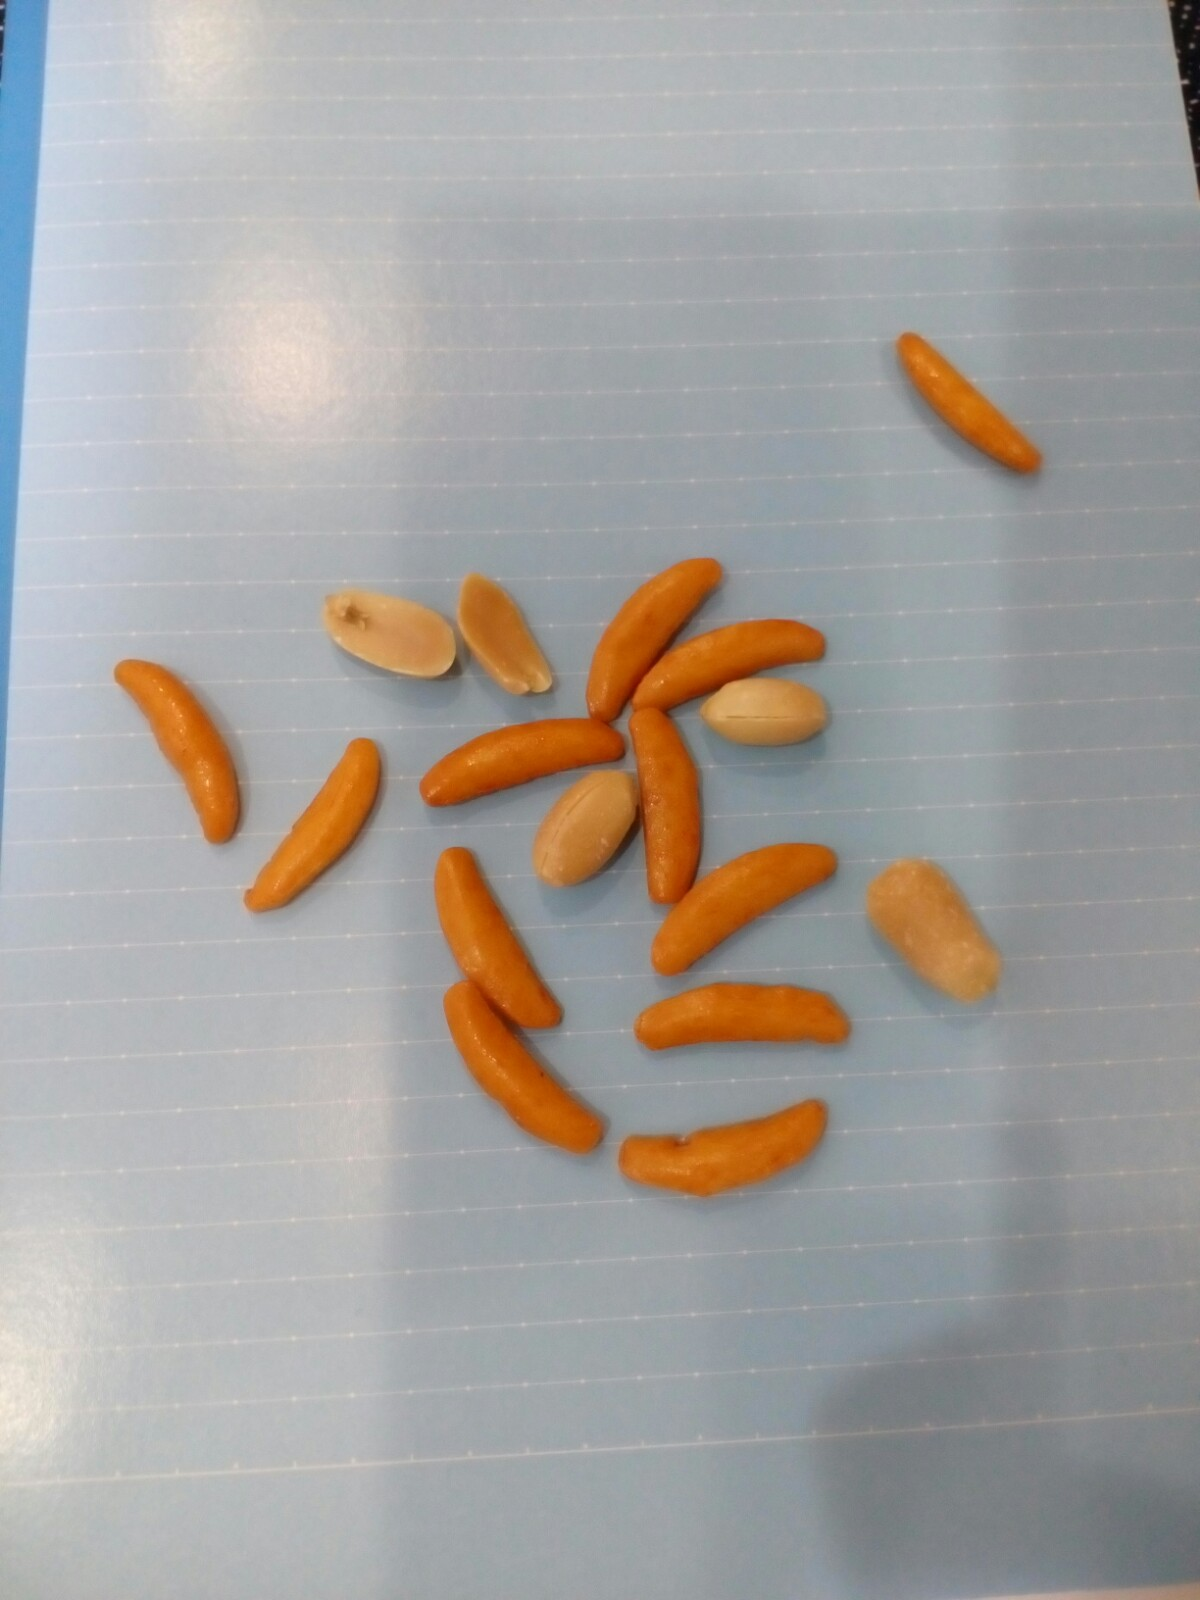peanut: (865, 848, 1011, 1014), (311, 564, 469, 690), (526, 757, 652, 900), (458, 572, 558, 708), (707, 670, 852, 757)
